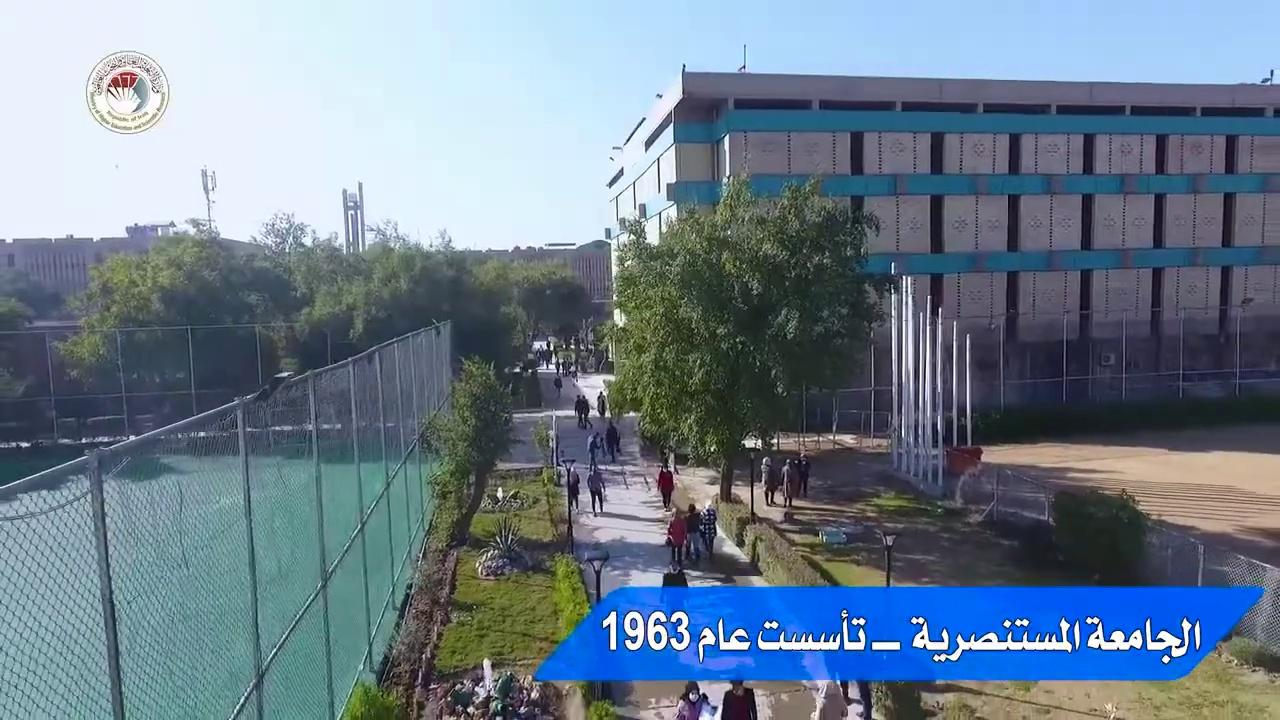fountain: (885, 269, 985, 495), (941, 322, 984, 475), (943, 443, 983, 475)
person: (673, 680, 717, 719), (720, 679, 757, 719), (665, 507, 687, 573), (684, 503, 704, 561), (586, 467, 606, 516), (700, 501, 717, 557), (760, 456, 779, 506), (779, 457, 798, 507), (656, 463, 674, 510), (566, 459, 580, 513), (797, 452, 810, 497)
tree: (599, 167, 891, 507), (51, 209, 589, 393), (379, 352, 516, 717), (51, 245, 192, 386), (417, 352, 515, 548), (530, 414, 558, 468)
